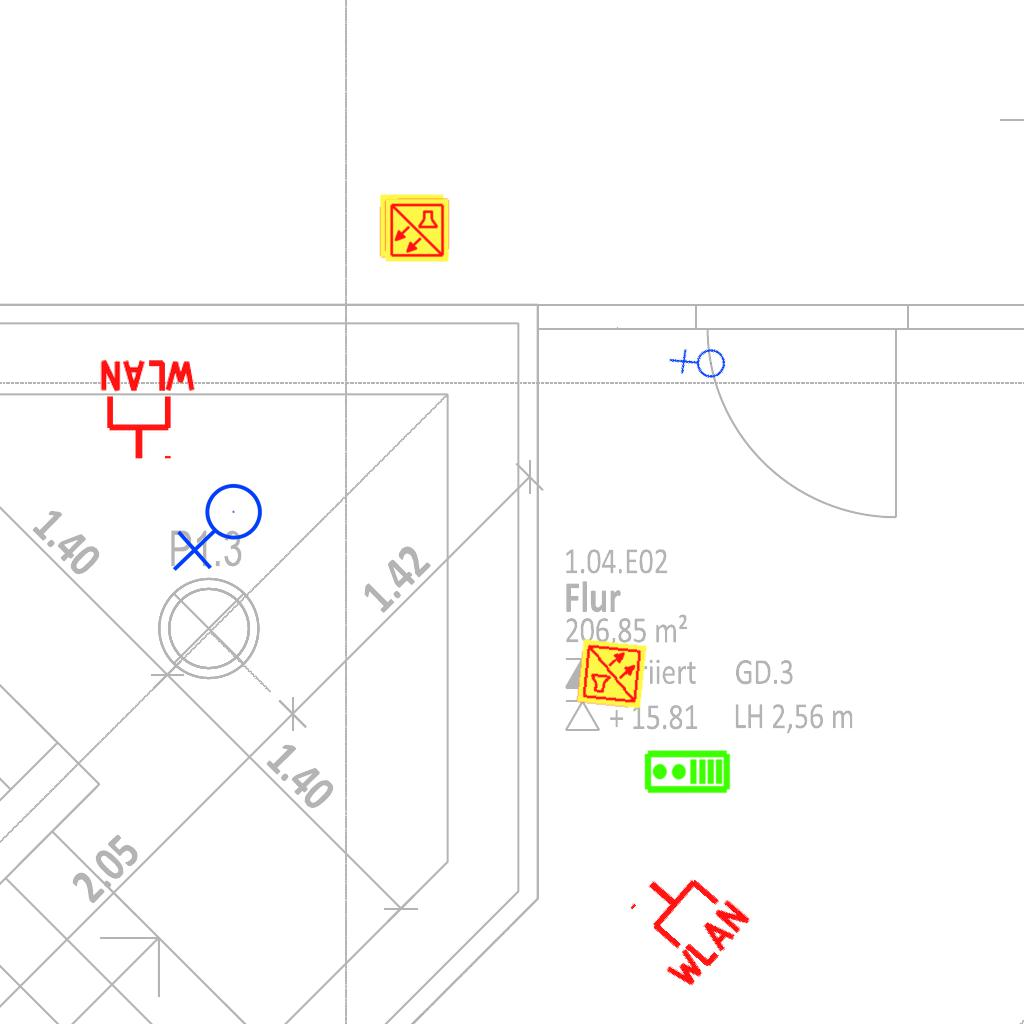Elektroanschluss_allgemein_230V_Geraeteanschlussdose_230V: (172, 482, 271, 576), (666, 330, 735, 399)
Gegensprechanlage_mit_Video: (643, 749, 731, 796)
OKW_Multisensormelder_(Kombination_optischer_Rauch-Kahlenmonoxid_Waerme-Melder): (575, 637, 649, 711), (379, 193, 445, 259), (384, 197, 450, 263)
WLAN: (607, 848, 756, 996), (96, 358, 200, 463)
